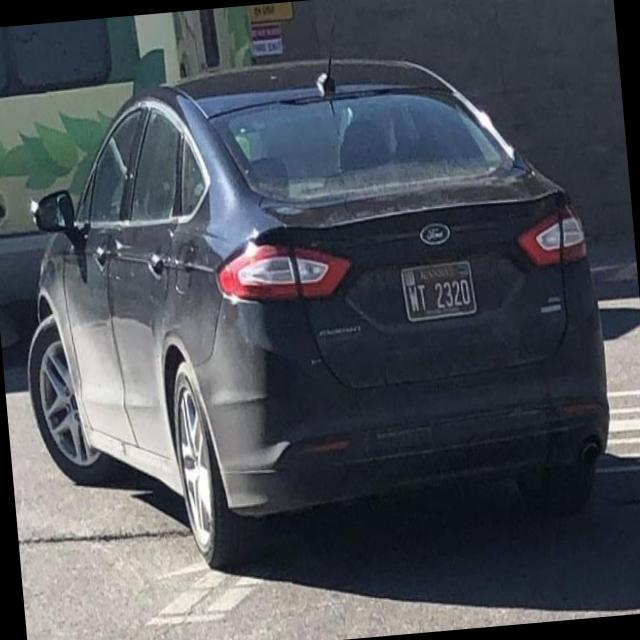LicensePlate: (400, 258, 477, 322)
